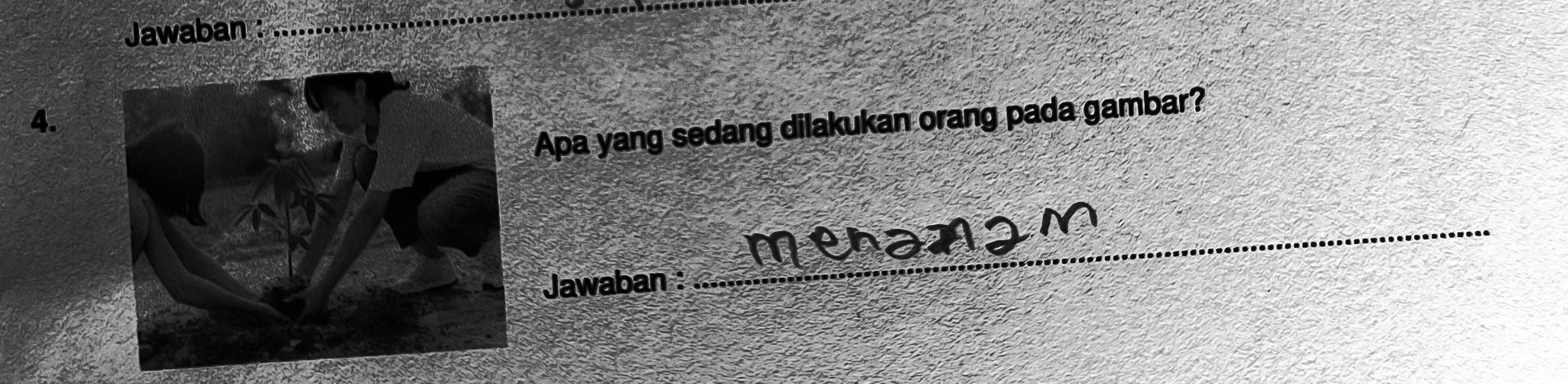jawaban: (741, 187, 1116, 287)
